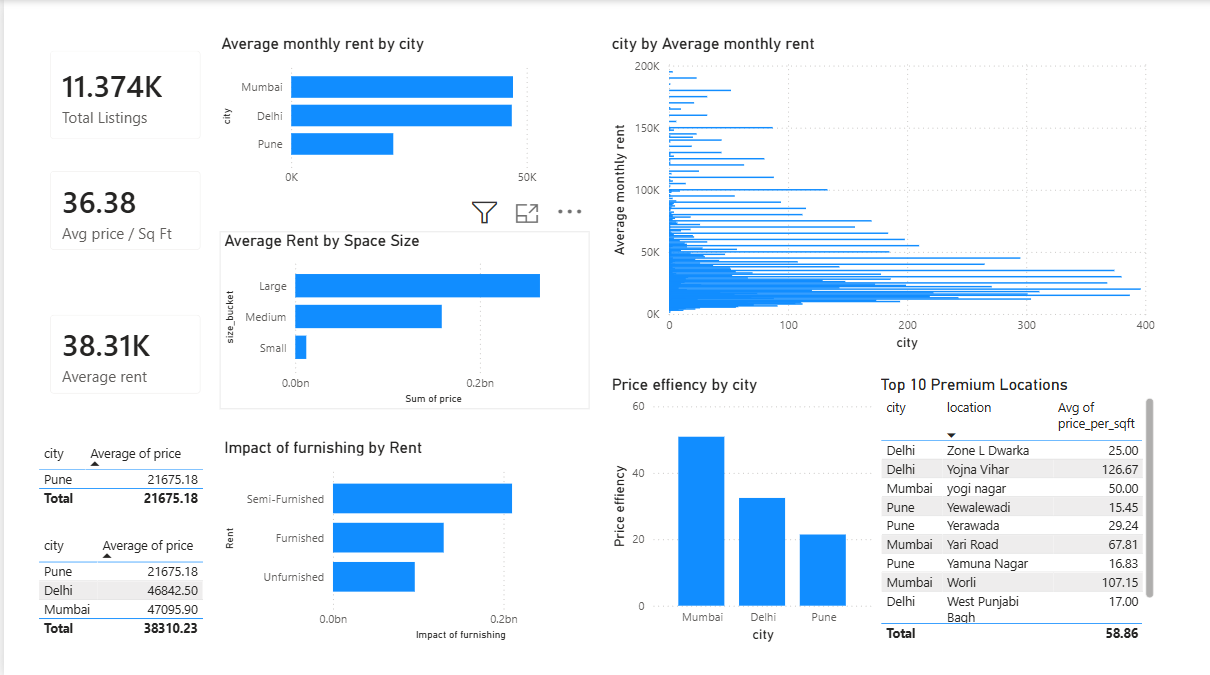

Layout of this report page (visuals, bound fields, positions):
{"tool":"powerbi","page":{"name":"Page 1","canvas":[1280,720],"ordinal":0},"visuals":[{"type":"cardVisual","fields":{"Data":["CountNonNull(real_estate_clean.property_id)"]},"box":[32,36,194,128],"z":0},{"type":"cardVisual","fields":{"Data":["Avg(real_estate_clean.price_per_sqft)"]},"box":[32,164,194,118],"z":1000},{"type":"tableEx","fields":{"Values":["real_estate_clean.city","Avg(real_estate_clean.price)"]},"box":[32,564,194,122],"z":2000},{"type":"clusteredBarChart","fields":{"Y":["CountNonNull(real_estate_clean.city)"],"Category":["real_estate_clean.price"]},"box":[640,36,586,340],"z":3000},{"type":"clusteredBarChart","fields":{"Category":["real_estate_clean.Status"],"Y":["Sum(real_estate_clean.price)"]},"box":[228.3,465,411.7,220],"z":4000},{"type":"tableEx","title":"Top 10 Premium Locations","fields":{"Values":["real_estate_clean.city","real_estate_clean.location","Avg(real_estate_clean.price_per_sqft)"]},"box":[926,398,300,288],"z":5000},{"type":"cardVisual","fields":{"Data":["Avg(real_estate_clean.price)"]},"box":[32,316,194,118],"z":6000},{"type":"tableEx","fields":{"Values":["real_estate_clean.city","Avg(real_estate_clean.price)"]},"box":[32,466,194,98],"z":7000},{"type":"clusteredBarChart","fields":{"Category":["real_estate_clean.city"],"Y":["Avg(real_estate_clean.price)"]},"box":[226,36,394,170],"z":8000},{"type":"clusteredColumnChart","fields":{"Category":["real_estate_clean.city"],"Y":["Avg(real_estate_clean.price_per_sqft)"]},"box":[640,398.3,286.7,288.3],"z":9000},{"type":"clusteredBarChart","title":"Average Rent by Space Size","fields":{"Category":["real_estate_clean.size_bucket"],"Y":["Sum(real_estate_clean.price)"]},"box":[228,246,394,188],"z":10000}]}

Visuals, with their boxes in screenshot pixels (x1, y1, x2, y2), scaled from the page's 1280x720 canvas onto the 1210x675 screenshot:
cardVisual - CountNonNull(real_estate_clean.property_id): <box>30,34,214,154</box>
cardVisual - Avg(real_estate_clean.price_per_sqft): <box>30,154,214,264</box>
tableEx - real_estate_clean.city x Avg(real_estate_clean.price): <box>30,529,214,643</box>
clusteredBarChart - CountNonNull(real_estate_clean.city) x real_estate_clean.price: <box>605,34,1159,352</box>
clusteredBarChart - real_estate_clean.Status x Sum(real_estate_clean.price): <box>216,436,605,642</box>
"Top 10 Premium Locations" tableEx: <box>875,373,1159,643</box>
cardVisual - Avg(real_estate_clean.price): <box>30,296,214,407</box>
tableEx - real_estate_clean.city x Avg(real_estate_clean.price): <box>30,437,214,529</box>
clusteredBarChart - real_estate_clean.city x Avg(real_estate_clean.price): <box>214,34,586,193</box>
clusteredColumnChart - real_estate_clean.city x Avg(real_estate_clean.price_per_sqft): <box>605,373,876,644</box>
"Average Rent by Space Size" clusteredBarChart: <box>216,231,588,407</box>
